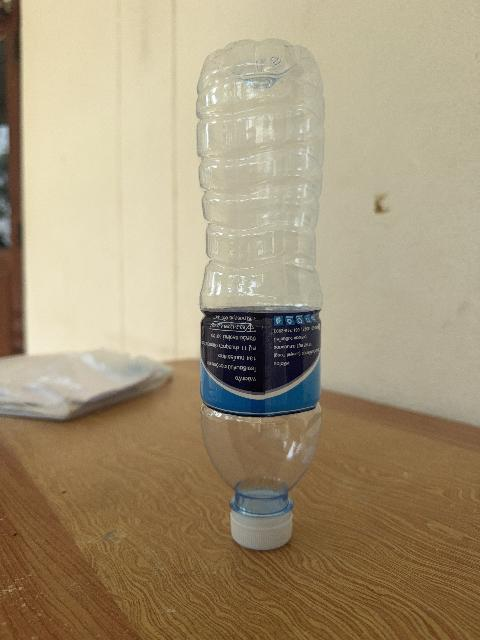bottle: (197, 40, 323, 549)
